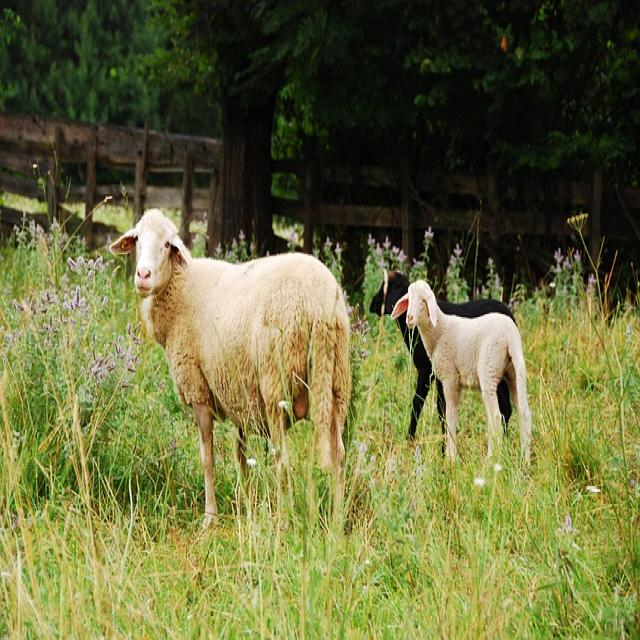goat: (110, 211, 354, 526), (393, 281, 534, 462)
